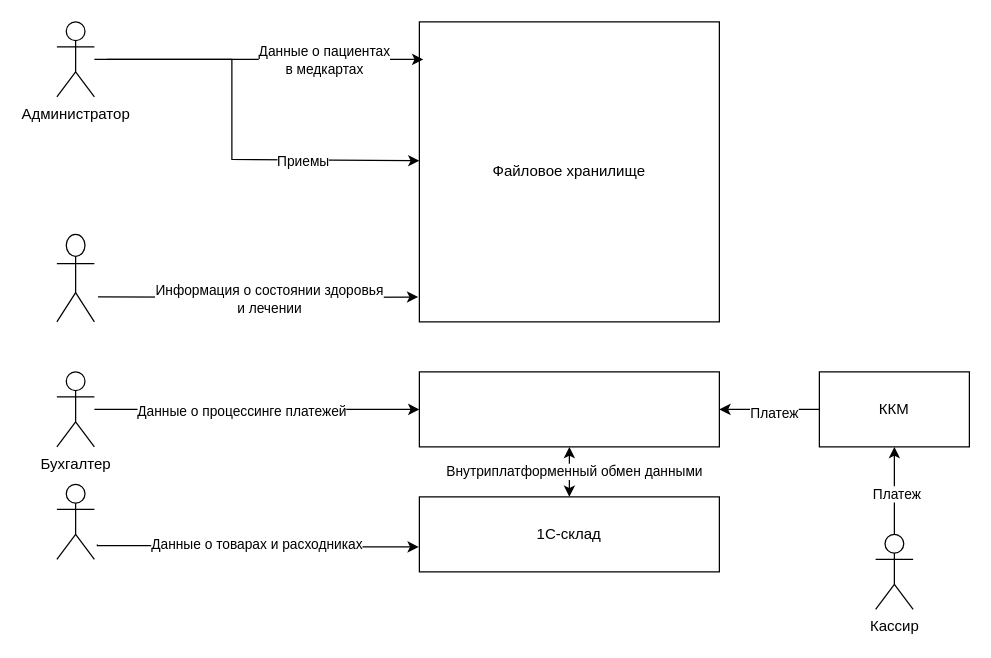
The diagram is 991 pixels wide and 658 high, and some of its shapes have lost their labels. The centre of each missing label's shape, as x and y in pixels:
1С-бухгалтерия: the point at 568,409
Кладовщик: the point at 75,521
Медработник: the point at 75,277
